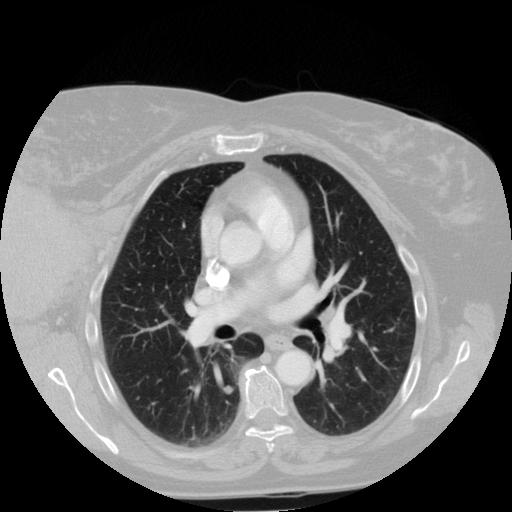nodule: (222, 383, 236, 397)
